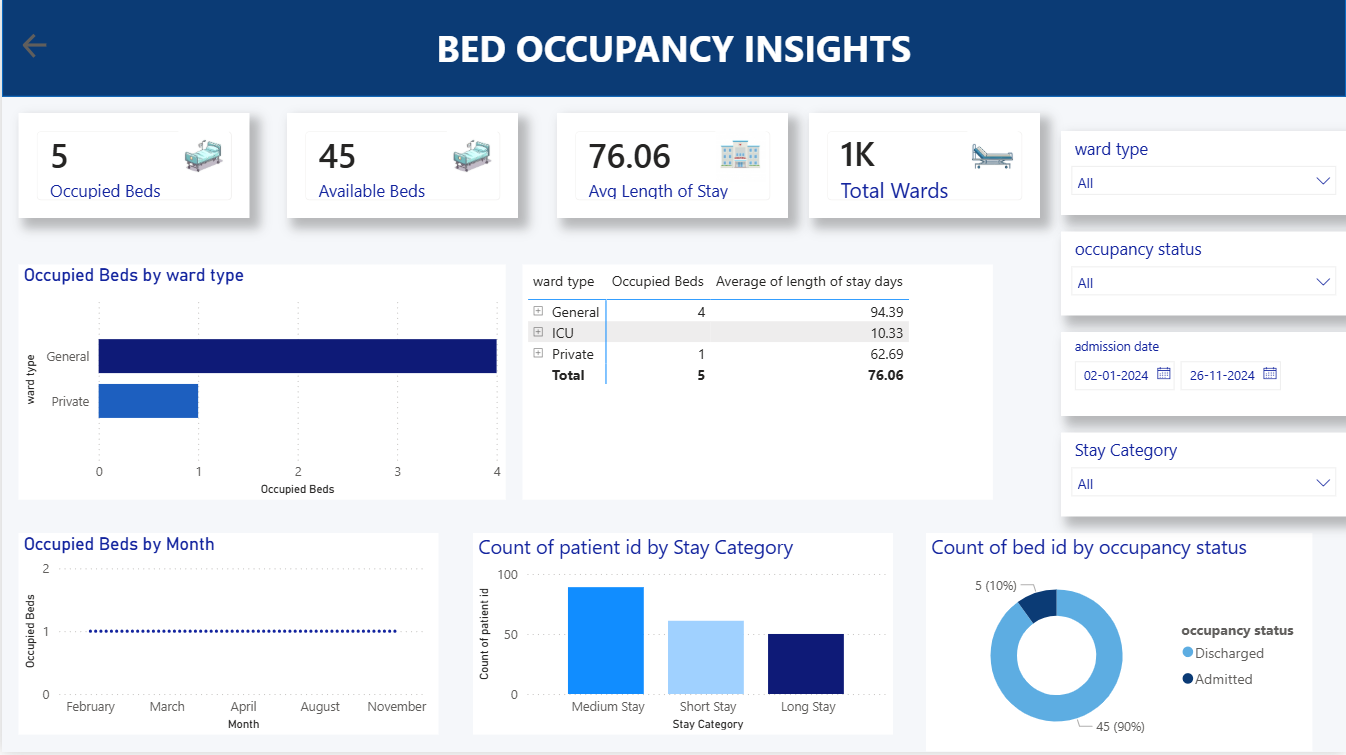

Layout of this report page (visuals, bound fields, positions):
{"tool":"powerbi","page":{"name":"BED OCCUPANCY INSIGHTS","canvas":[1280,720],"ordinal":3},"visuals":[{"type":"cardVisual","fields":{"Data":["cleaned_bed_occupancy.Occupied Beds"]},"box":[16,112,220,100],"z":0},{"type":"cardVisual","fields":{"Data":["cleaned_bed_occupancy.Available Beds"]},"box":[272,112,220,100],"z":1000},{"type":"donutChart","fields":{"Category":["cleaned_bed_occupancy.occupancy status"],"Y":["CountNonNull(cleaned_bed_occupancy.bed id)"]},"box":[880,512,368,208],"z":2000},{"type":"barChart","fields":{"Category":["cleaned_bed_occupancy.ward type"],"Y":["cleaned_bed_occupancy.Occupied Beds"]},"box":[16,256,464,224],"z":3000},{"type":"columnChart","fields":{"Category":["cleaned_bed_occupancy.Stay Category"],"Y":["CountNonNull(cleaned_billing.patient id)"]},"box":[448,512,400,192],"z":4000},{"type":"lineChart","fields":{"Category":["cleaned_bed_occupancy.admission date.Variation.Date Hierarchy.Month"],"Y":["cleaned_bed_occupancy.Occupied Beds"]},"box":[16,512,400,192],"z":5000},{"type":"pivotTable","fields":{"Rows":["cleaned_bed_occupancy.ward type","cleaned_bed_occupancy.Stay Category"],"Values":["cleaned_bed_occupancy.Occupied Beds","Avg(cleaned_bed_occupancy.length of stay days)"]},"box":[496,256,448,224],"z":6000},{"type":"shape","box":[0,0,1280,96],"z":7000},{"type":"cardVisual","fields":{"Data":["cleaned_bed_occupancy.Avg Length of Stay"]},"box":[528,112,220,100],"z":8000},{"type":"cardVisual","fields":{"Data":["Sum(cleaned_bed_occupancy.total beds in ward)"]},"box":[768,112,220,100],"z":9000},{"type":"slicer","fields":{"Values":["cleaned_bed_occupancy.ward type"]},"box":[1008,128,272,80],"z":10000},{"type":"slicer","fields":{"Values":["cleaned_bed_occupancy.occupancy status"]},"box":[1008,224,272,80],"z":11000},{"type":"slicer","fields":{"Values":["cleaned_bed_occupancy.admission date"]},"box":[1008,320,272,80],"z":12000},{"type":"slicer","fields":{"Values":["cleaned_bed_occupancy.Stay Category"]},"box":[1008,416,272,80],"z":13000},{"type":"image","box":[160,128,64,48],"z":13001},{"type":"image","box":[416,128,64,48],"z":13002},{"type":"image","box":[672,128,64,48],"z":13003},{"type":"image","box":[912,128,64,48],"z":13004},{"type":"actionButton","box":[16,32,48,32],"z":13005}]}

Visuals, with their boxes in screenshot pixels (x1, y1, x2, y2), scaled from the page's 1280x720 canvas onto the 1346x755 screenshot:
cardVisual - cleaned_bed_occupancy.Occupied Beds: box(17, 117, 248, 222)
cardVisual - cleaned_bed_occupancy.Available Beds: box(286, 117, 517, 222)
donutChart - cleaned_bed_occupancy.occupancy status x CountNonNull(cleaned_bed_occupancy.bed id): box(925, 537, 1312, 754)
barChart - cleaned_bed_occupancy.ward type x cleaned_bed_occupancy.Occupied Beds: box(17, 268, 505, 503)
columnChart - cleaned_bed_occupancy.Stay Category x CountNonNull(cleaned_billing.patient id): box(471, 537, 892, 738)
lineChart - cleaned_bed_occupancy.admission date.Variation.Date Hierarchy.Month x cleaned_bed_occupancy.Occupied Beds: box(17, 537, 437, 738)
pivotTable - cleaned_bed_occupancy.ward type x cleaned_bed_occupancy.Stay Category: box(522, 268, 993, 503)
shape: box(0, 0, 1345, 101)
cardVisual - cleaned_bed_occupancy.Avg Length of Stay: box(555, 117, 787, 222)
cardVisual - Sum(cleaned_bed_occupancy.total beds in ward): box(808, 117, 1039, 222)
slicer - cleaned_bed_occupancy.ward type: box(1060, 134, 1345, 218)
slicer - cleaned_bed_occupancy.occupancy status: box(1060, 235, 1345, 319)
slicer - cleaned_bed_occupancy.admission date: box(1060, 336, 1345, 419)
slicer - cleaned_bed_occupancy.Stay Category: box(1060, 436, 1345, 520)
image: box(168, 134, 236, 185)
image: box(437, 134, 505, 185)
image: box(707, 134, 774, 185)
image: box(959, 134, 1026, 185)
actionButton: box(17, 34, 67, 67)
